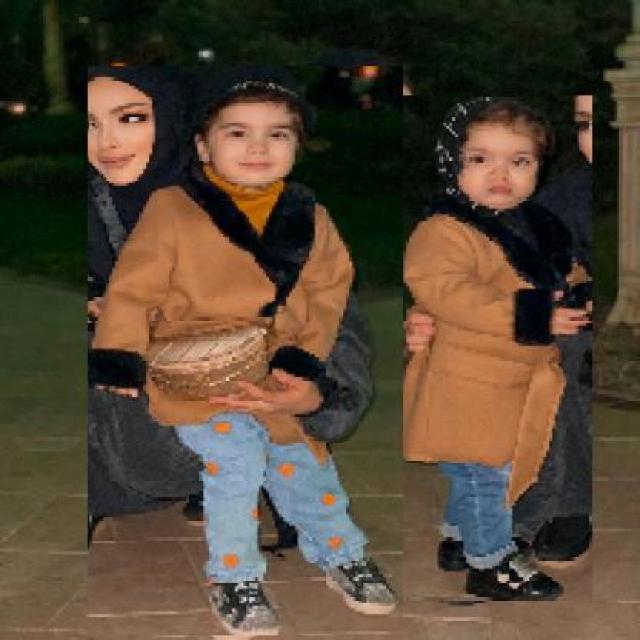child: (86, 66, 403, 637), (397, 96, 592, 602)
